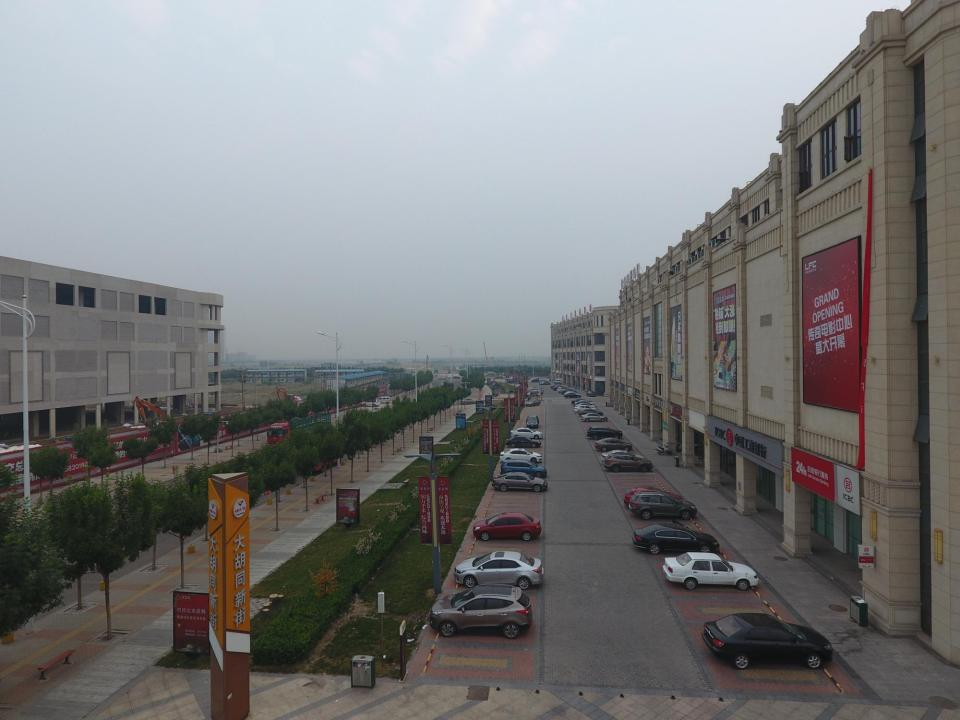car: (702, 614, 834, 668), (429, 584, 533, 639), (662, 552, 758, 590), (453, 551, 543, 591), (633, 524, 720, 554), (472, 512, 541, 541), (629, 492, 697, 520), (623, 487, 684, 507), (492, 472, 548, 492), (604, 454, 653, 472), (499, 459, 547, 477), (601, 450, 646, 465), (500, 448, 542, 463), (594, 437, 632, 452), (505, 436, 542, 448), (586, 426, 623, 438), (510, 427, 544, 439), (581, 412, 608, 422), (578, 409, 604, 417), (574, 405, 597, 412), (526, 415, 538, 428), (574, 402, 597, 408), (570, 398, 591, 404), (572, 400, 595, 405), (361, 400, 380, 406), (525, 399, 541, 406), (557, 386, 575, 392), (554, 384, 572, 390), (460, 398, 477, 404), (564, 392, 581, 398), (563, 389, 579, 395), (562, 388, 577, 394), (550, 385, 570, 389), (586, 391, 596, 397), (538, 379, 548, 384), (532, 378, 542, 383), (540, 381, 551, 385), (441, 382, 445, 386)
truck: (294, 432, 354, 473), (267, 414, 332, 450)
van: (377, 397, 391, 404), (553, 378, 563, 384)
